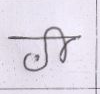i_matra: (49, 25, 70, 62)
